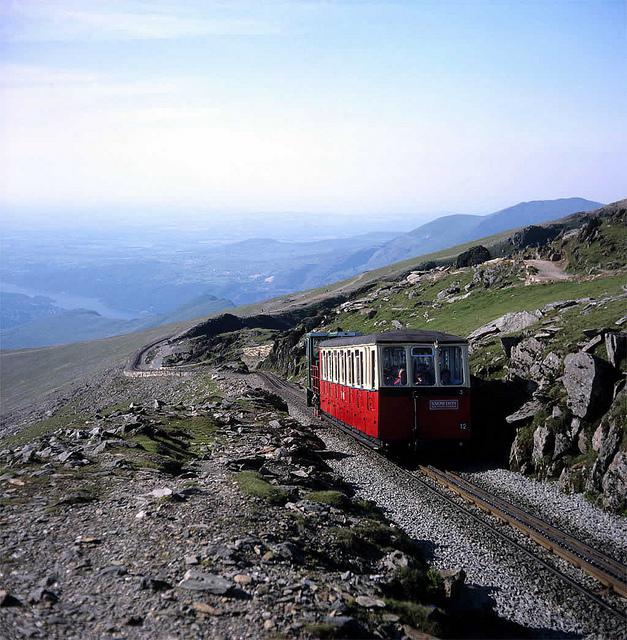Train: (307, 330, 473, 468)
